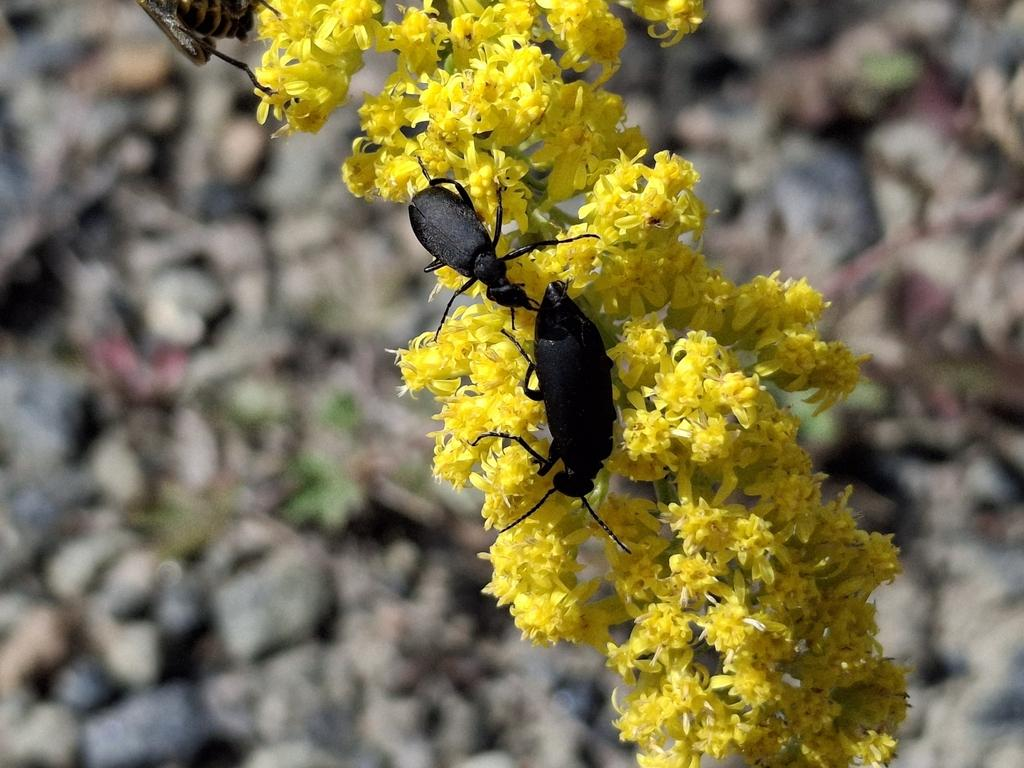blister_beetle: (456, 273, 657, 591), (378, 137, 610, 361)
